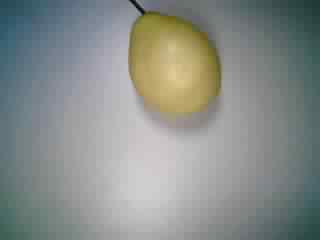pear: (110, 1, 234, 125)
